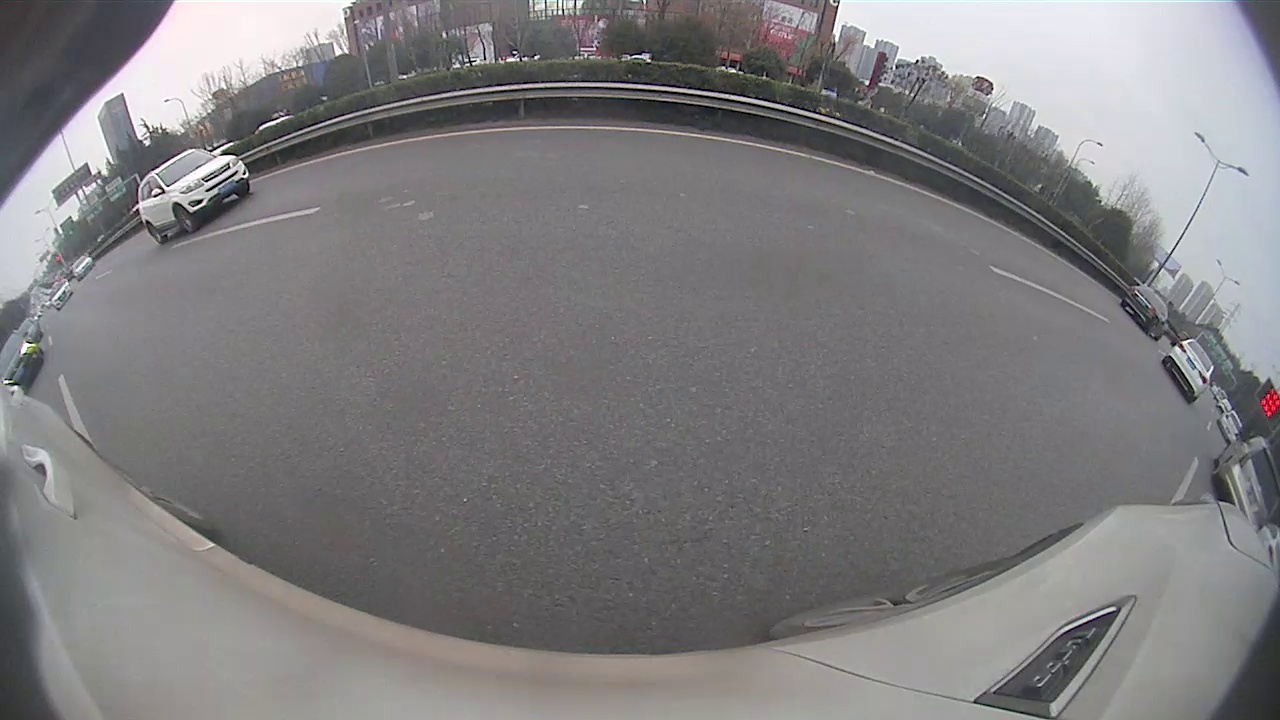car: (138, 146, 252, 246), (1209, 431, 1276, 531), (1164, 336, 1216, 405), (1120, 278, 1171, 342), (1, 332, 41, 390)
front: (172, 204, 198, 234)
rear: (146, 220, 168, 244)
